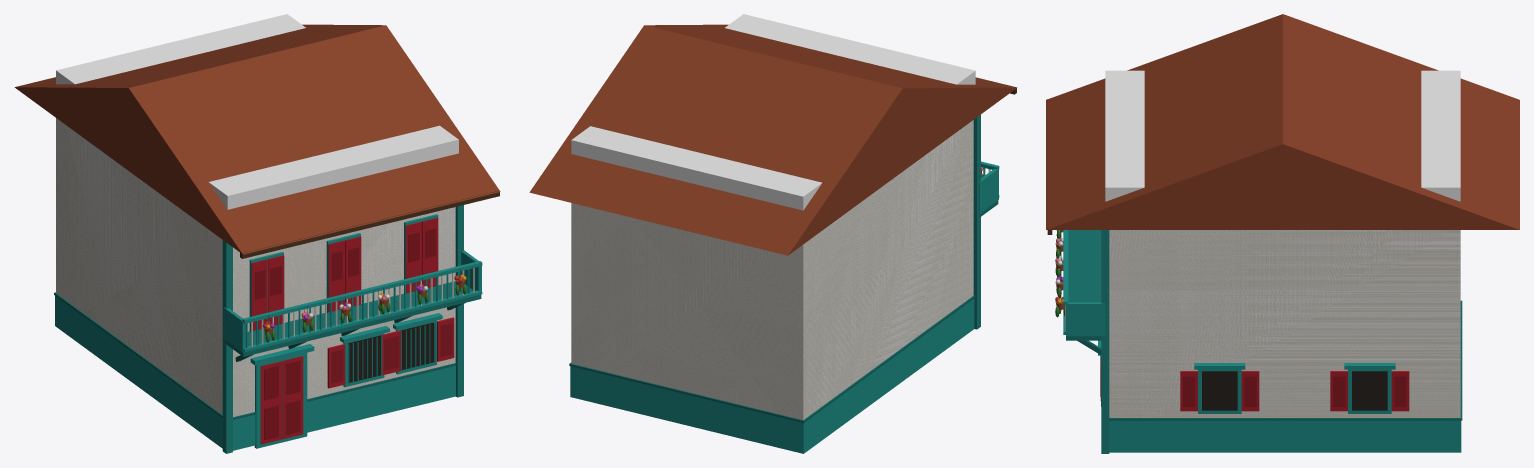
Rendered from casa_cafetera_turquesa.glb.
The picture shows the model from 3 angles, left to right: view 1: azimuth 30°, elevation 25°; view 2: azimuth 150°, elevation 25°; view 3: azimuth 270°, elevation 25°; orthographic projection. The views are drawn at different scales.
Parts seen in each view (by area): view 1: casa_cafetera_turquesa_Malla, COL_0; view 2: casa_cafetera_turquesa_Malla, COL_0; view 3: casa_cafetera_turquesa_Malla, COL_0.
Part boxes in pixels (<box>): casa_cafetera_turquesa_Malla: <box>14,24,500,453</box>; COL_0: <box>56,14,458,416</box>; casa_cafetera_turquesa_Malla: <box>529,24,1017,453</box>; COL_0: <box>571,14,975,419</box>; casa_cafetera_turquesa_Malla: <box>1046,14,1519,453</box>; COL_0: <box>1105,70,1460,417</box>.
Size of the model in its own units: 7.8 by 8.88 by 12.
